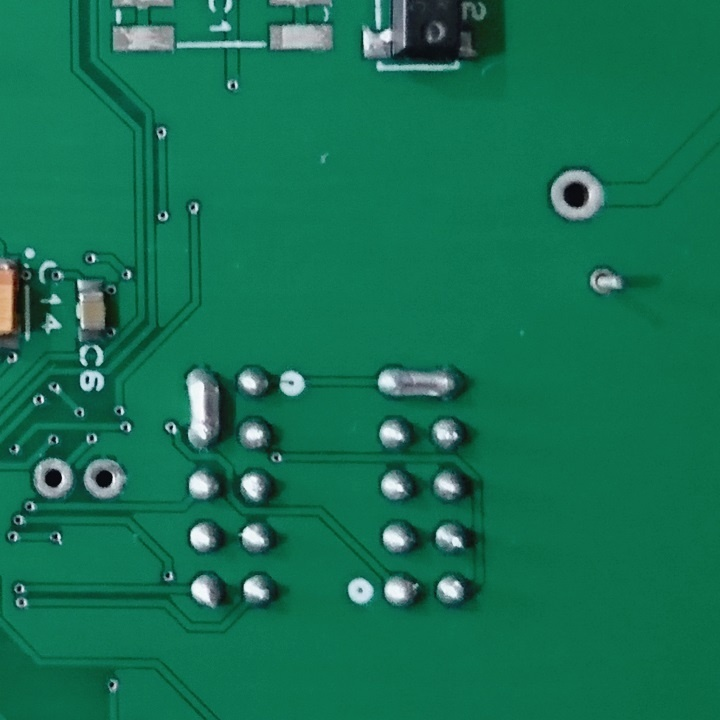F: (544, 166, 609, 225), (79, 452, 131, 506), (28, 456, 76, 503), (587, 261, 628, 302)
P: (373, 362, 467, 404), (180, 363, 224, 451)
